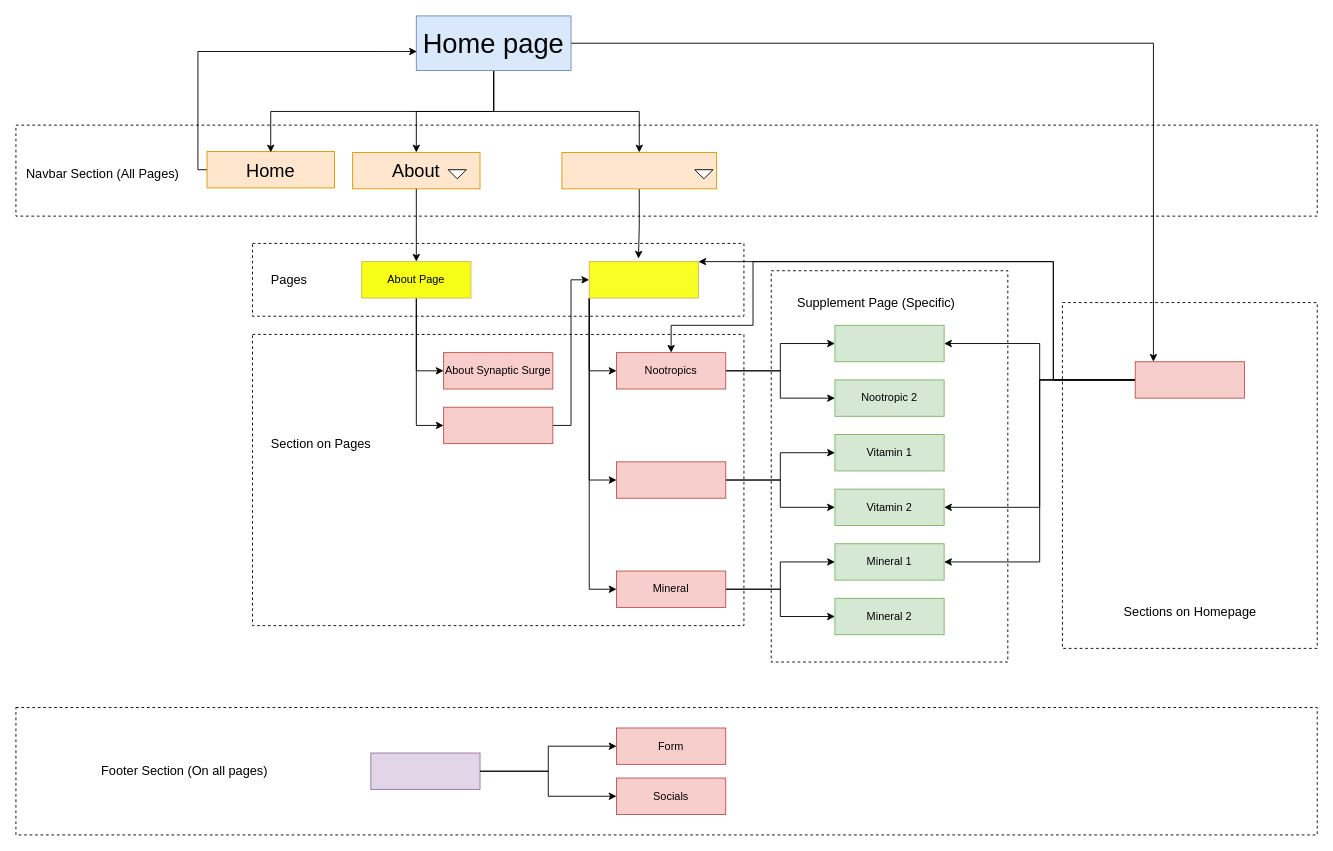
The diagram is 1333 pixels wide and 851 high, and some of its shapes have lost their labels. The box of each missing label's shape, as (x1, y1, x2, y2) in pixels:
About Biohacking: (443, 406, 553, 444)
Footer: (370, 752, 480, 789)
Nootropic 1: (834, 324, 944, 362)
Popular Supplements: (1134, 361, 1244, 398)
Supplement Page (General): (588, 261, 698, 298)
Supplements: (561, 152, 717, 189)
Vitamin: (616, 461, 726, 498)
